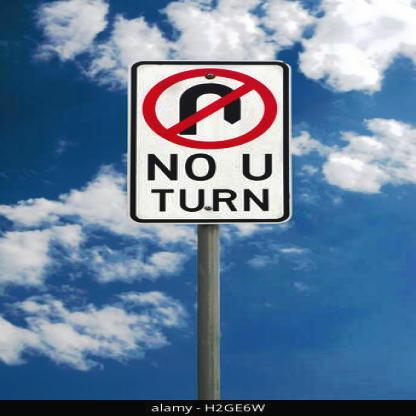No U-turn: (136, 66, 280, 149)
